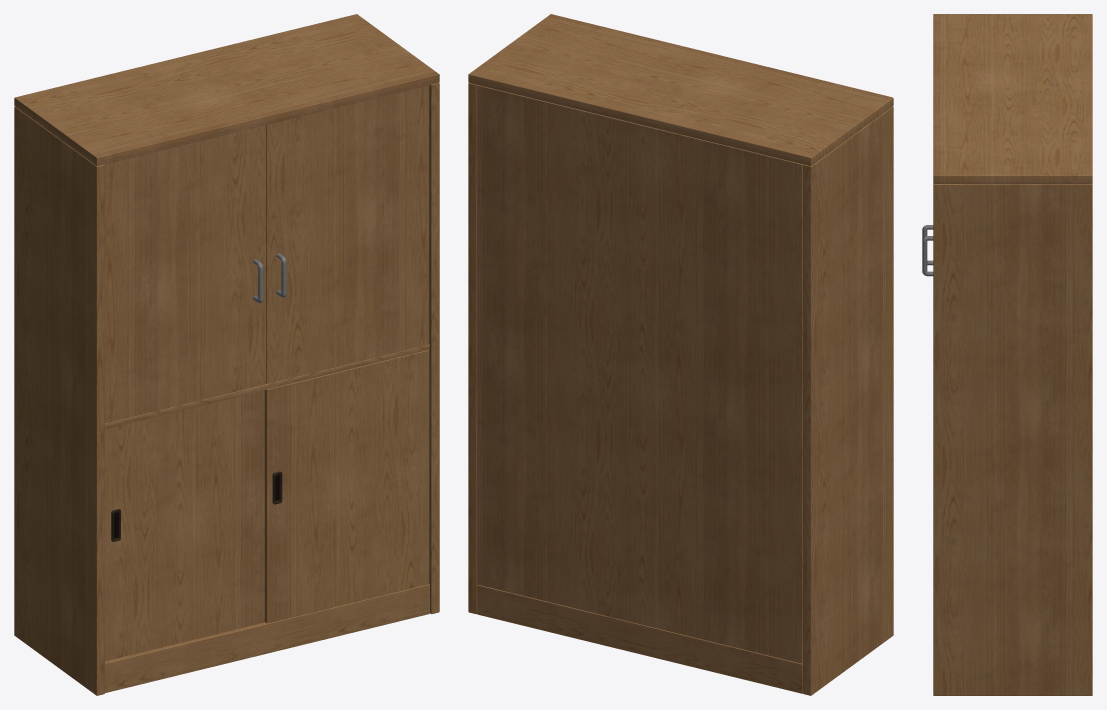
The model's file is M_Shelf02.FBX.
3 renders of one model, left to right at view 1: azimuth 30°, elevation 25°; view 2: azimuth 150°, elevation 25°; view 3: azimuth 270°, elevation 25°, orthographic. The views are drawn at different scales.
Visible parts, largest first — view 1: Shelf_02; view 2: Shelf_02; view 3: Shelf_02.
Part boxes in pixels (box(x1,y1,x2,y2)): Shelf_02: box(14, 14, 439, 695); Shelf_02: box(468, 14, 893, 695); Shelf_02: box(922, 14, 1092, 695).
Bounding box in the file's own units: 120 × 180 × 53.46.
